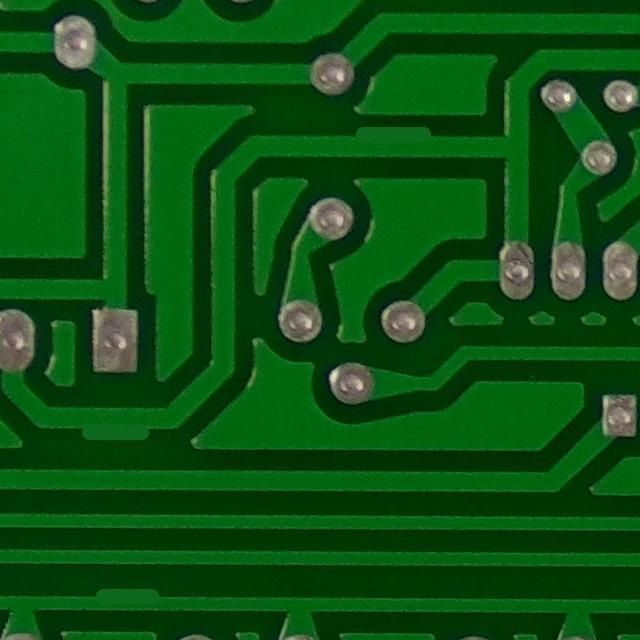spur: (57, 406, 158, 457), (344, 112, 444, 161), (78, 574, 175, 614)
